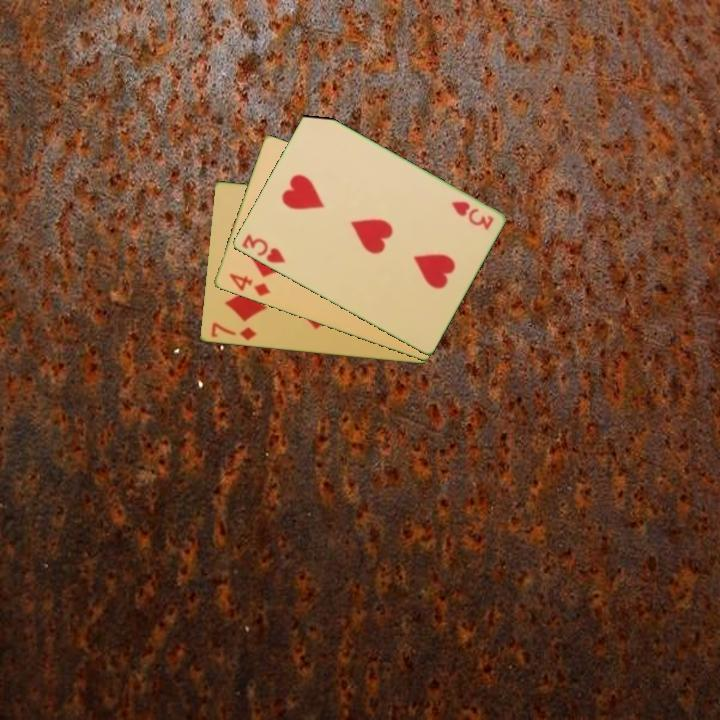3h: (447, 197, 496, 233), (238, 231, 288, 266)
4d: (225, 270, 273, 299)
7d: (207, 319, 259, 343)
